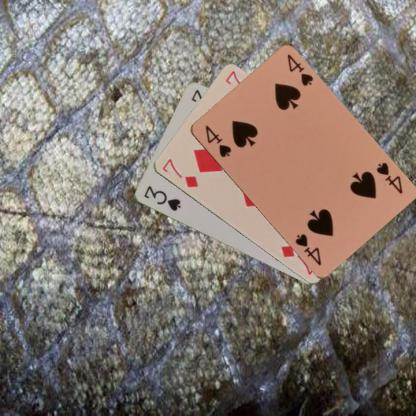3s: (140, 183, 182, 213)
4s: (372, 160, 404, 196), (202, 122, 232, 159)
7d: (159, 156, 199, 190)
